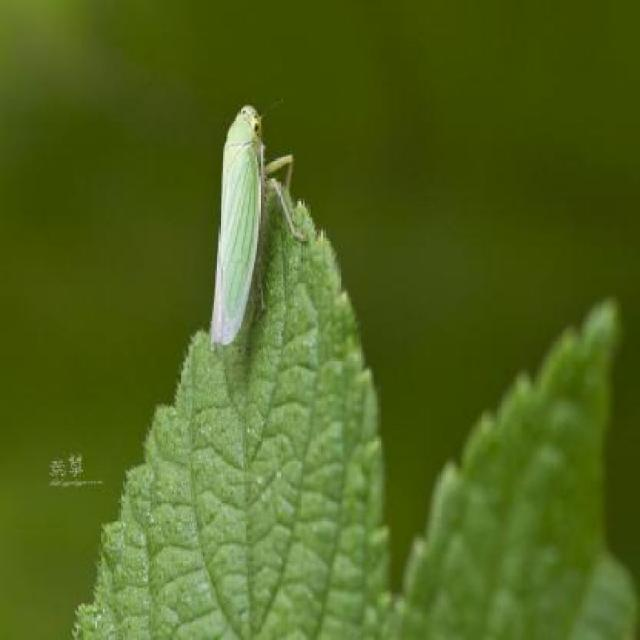green-leafhopper: (206, 100, 305, 355)
